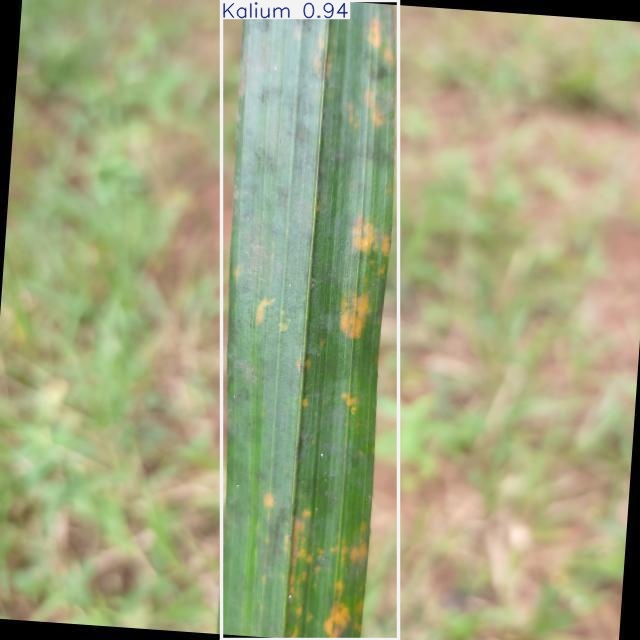Kalium: (221, 1, 399, 640)
